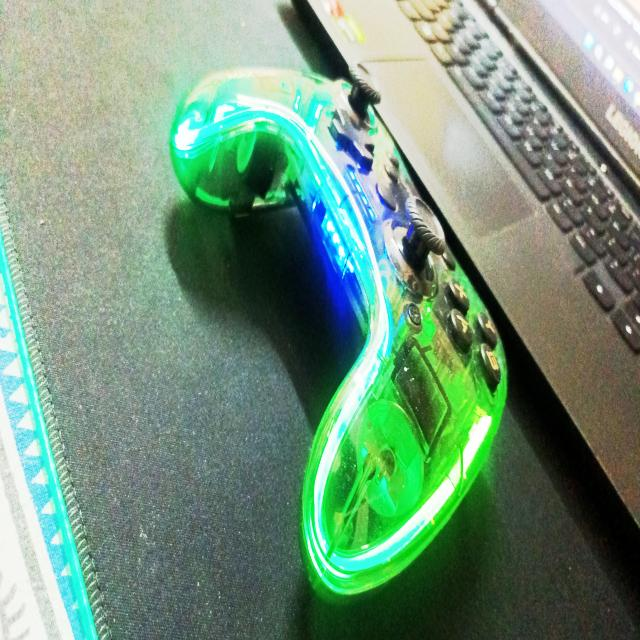gamepad: (168, 64, 510, 602)
